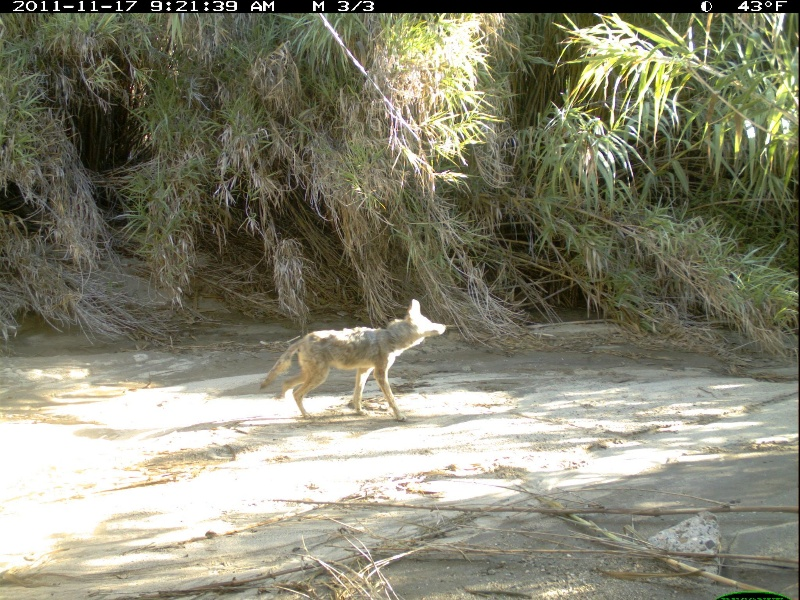coyote: (258, 299, 447, 425)
